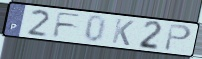0: (84, 15, 108, 44)
2: (138, 20, 163, 52), (27, 9, 52, 37)
F: (51, 11, 83, 39)
K: (110, 17, 136, 47)
P: (163, 22, 193, 52)
